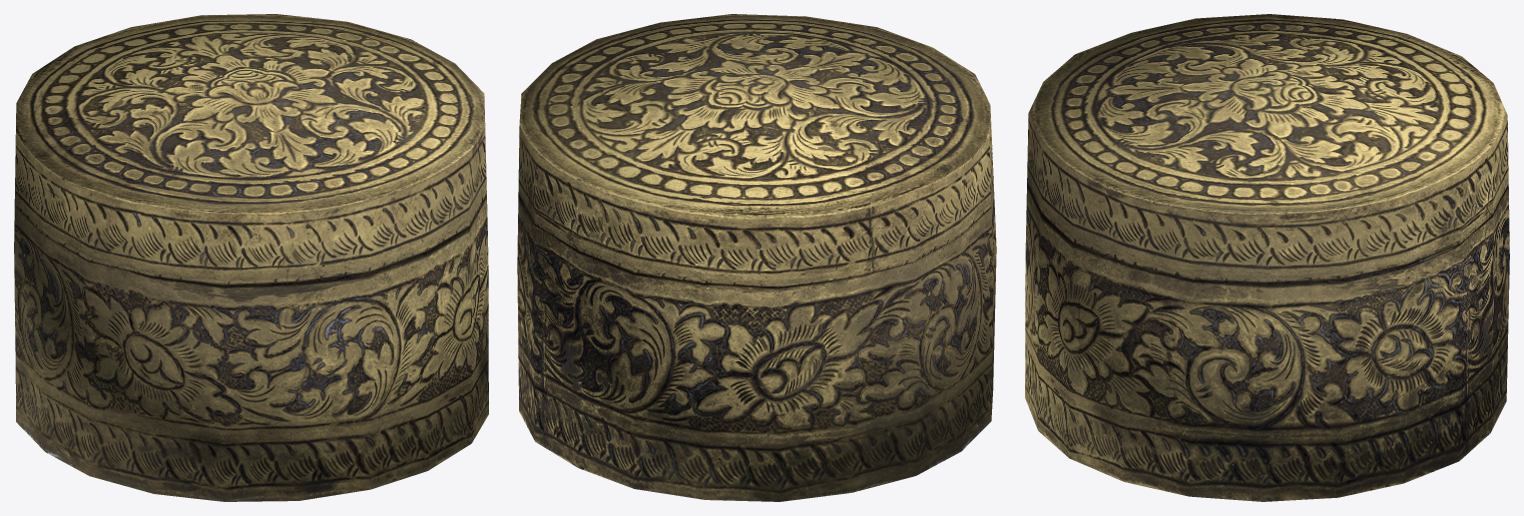
3 views of the same model, side by side, from view 1: azimuth 30°, elevation 25°; view 2: azimuth 150°, elevation 25°; view 3: azimuth 270°, elevation 25° (orthographic).
Visible parts, largest first — view 1: SmallBrassContainer_low.001; view 2: SmallBrassContainer_low.001; view 3: SmallBrassContainer_low.001.
Part boxes in pixels (<box>): SmallBrassContainer_low.001: <box>14,14,488,501</box>; SmallBrassContainer_low.001: <box>517,14,996,501</box>; SmallBrassContainer_low.001: <box>1025,14,1509,501</box>.
Bounding box in the file's own units: 2.4 × 1.77 × 2.45.
Materials: 1 (1 with a texture image).
